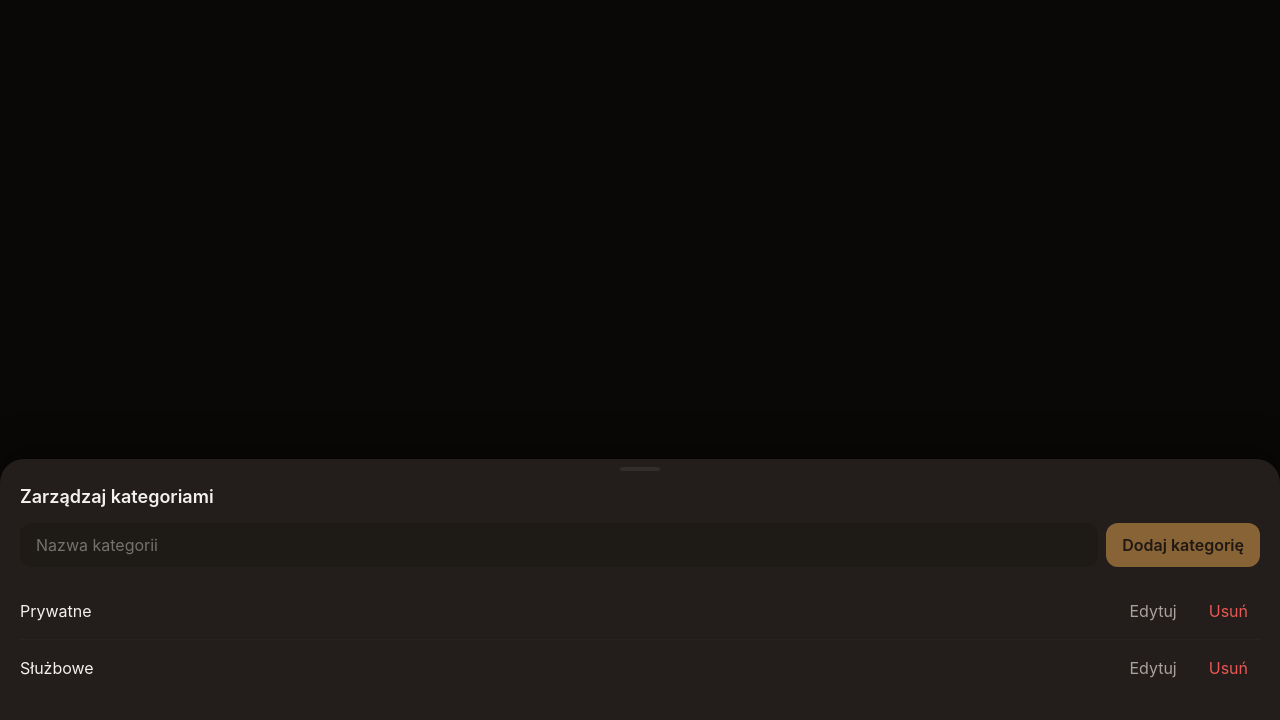
Test: ManageCategoriesSheet › clicking Edytuj on a row puts it into rename mode
The width and height of the screenshot is (1280, 720).
Click the button "Edytuj" in the row of "Prywatne" at {"x": 1153, "y": 611}, box [1117,591,1189,631]
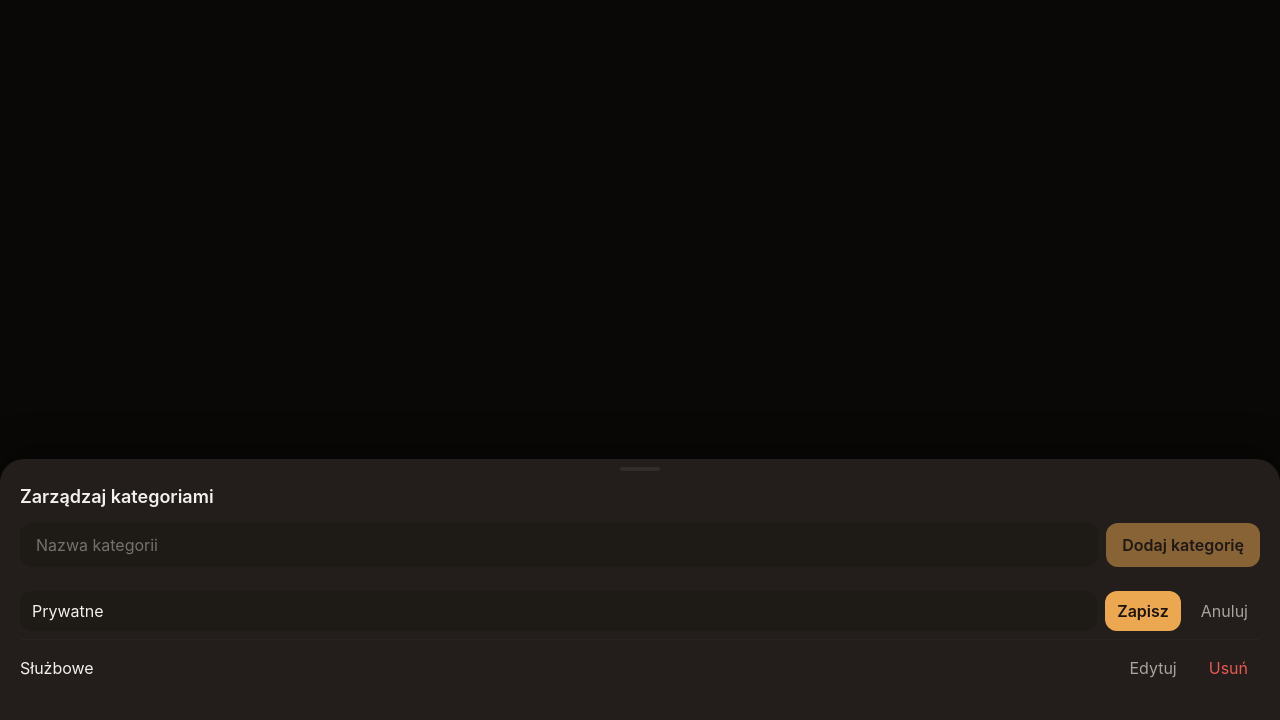
Now the field named "Zmień nazwę „Prywatne\"" holds "Prywatne", box [20,591,1097,631]
